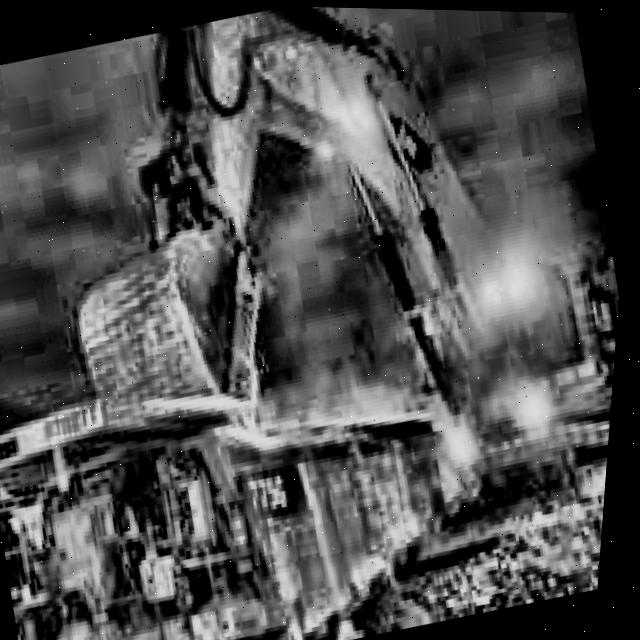dump_truck: (0, 279, 493, 640)
